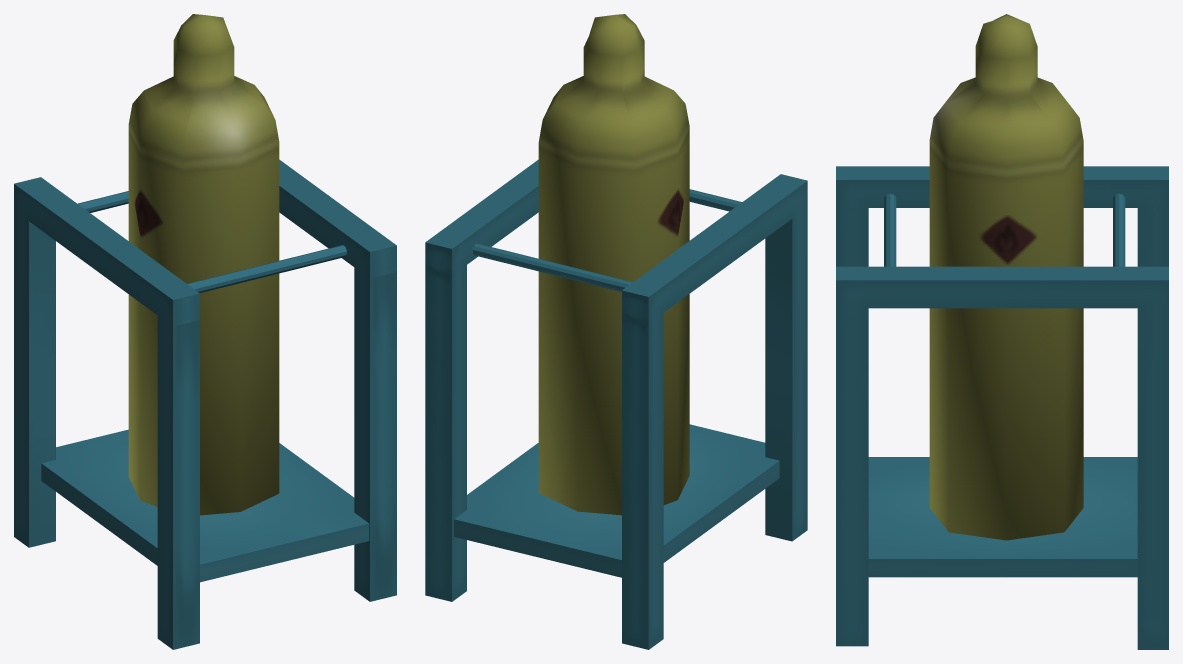
Rendered from gas tank.fbx.
3 views of the same model, side by side, from view 1: azimuth 30°, elevation 25°; view 2: azimuth 150°, elevation 25°; view 3: azimuth 270°, elevation 25° (orthographic). The views are drawn at different scales.
Visible parts, largest first — view 1: pCube41; view 2: pCube41; view 3: pCube41.
Boxes of the visible parts, box(x1,y1,x2,y2) form: pCube41: box(14, 14, 396, 649); pCube41: box(425, 14, 807, 649); pCube41: box(836, 14, 1168, 649).
Bounding box in the file's own units: 1.37 × 3.23 × 1.69.
4 materials, 4 textured.
